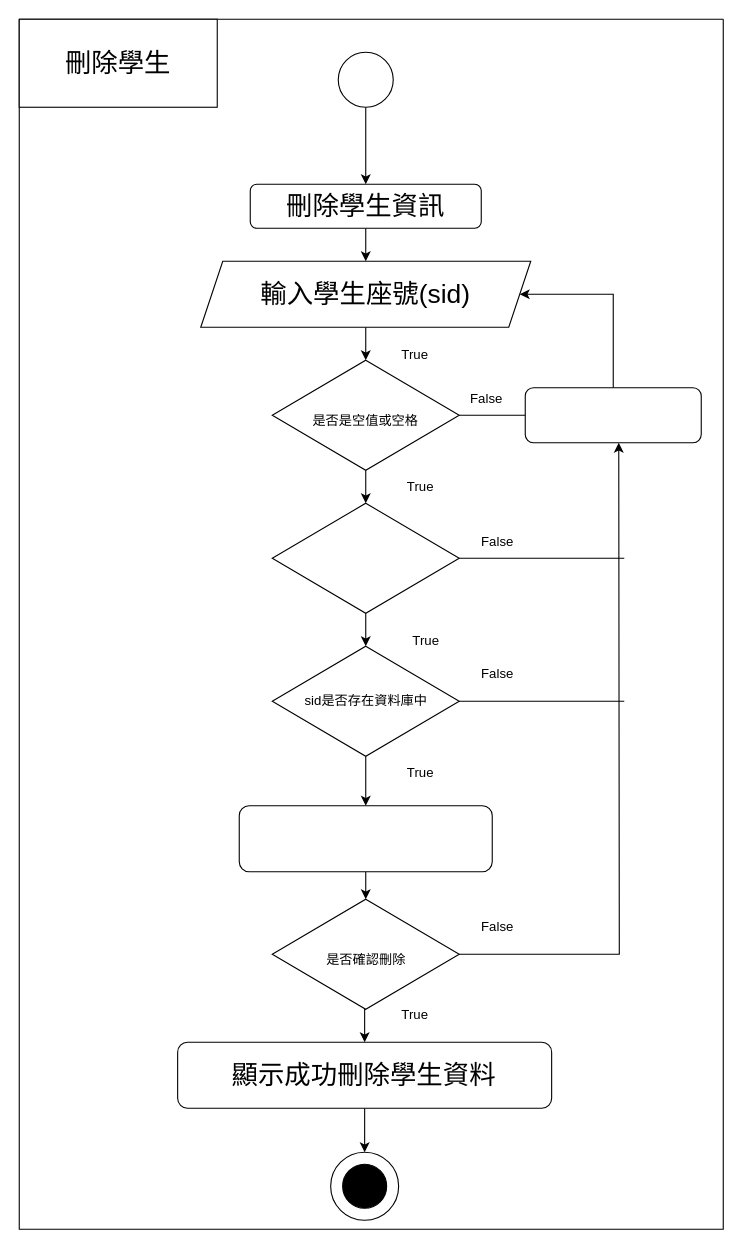
This 743x1249 diagram has some shape labels left out. The shapes that lost their labels are listed below. From the top down, each one's centre as x and y in pixels, then its label:
At pixel 612 415: "顯示刪除學生失敗".
At pixel 365 557: "座號是否為正整數".
At pixel 365 838: "顯示確認視窗".
